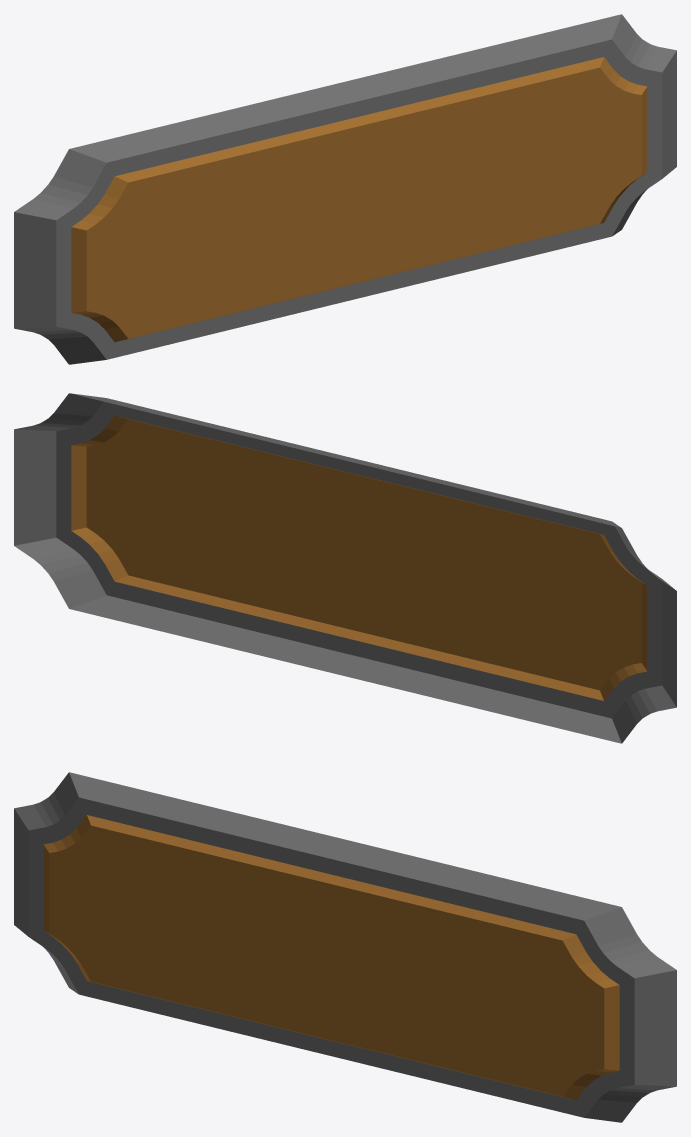
The model's file is plaque.fbx.
3 renders of one model, top to bottom at view 1: azimuth 30°, elevation 25°; view 2: azimuth 150°, elevation 25°; view 3: azimuth 330°, elevation 25°, orthographic.
Visible parts, largest first — view 1: Plaque; view 2: Plaque; view 3: Plaque.
Part boxes in pixels (x1,y1,x2,y2): Plaque: [14, 14, 676, 364]; Plaque: [14, 393, 676, 743]; Plaque: [14, 772, 676, 1122].
Size of the model in its own units: 208 by 10.15 by 64.62.
